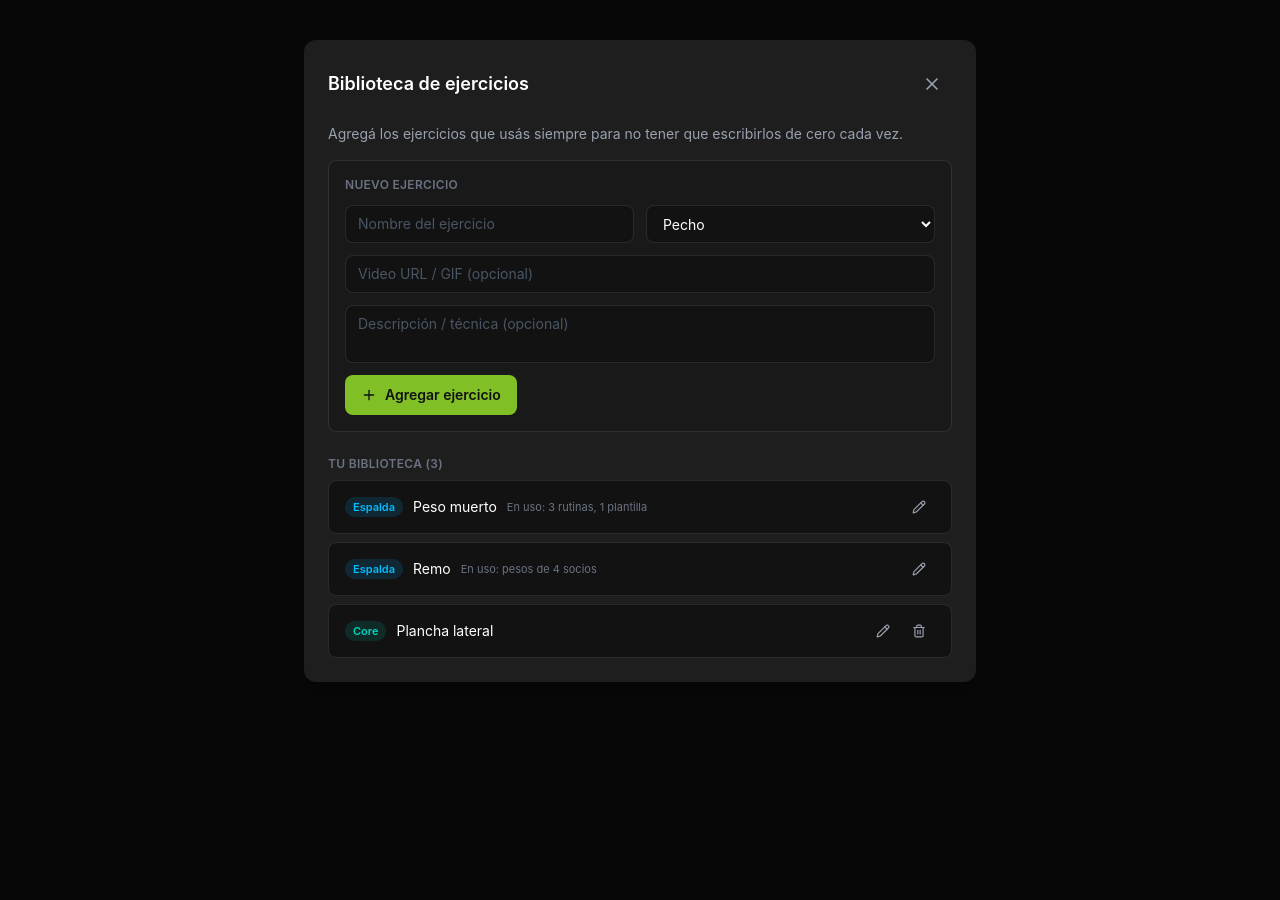
Biblioteca -- borrar un ejercicio sin uso › si al momento de borrar ya está en uso (la lista estaba vieja): no pregunta, no borra y dice por qué
Expected: the text "Peso muerto" is shown, [413, 497, 497, 517]
Click the button named "Eliminar Plancha lateral".
click(919, 631)  # box [903, 615, 935, 647]
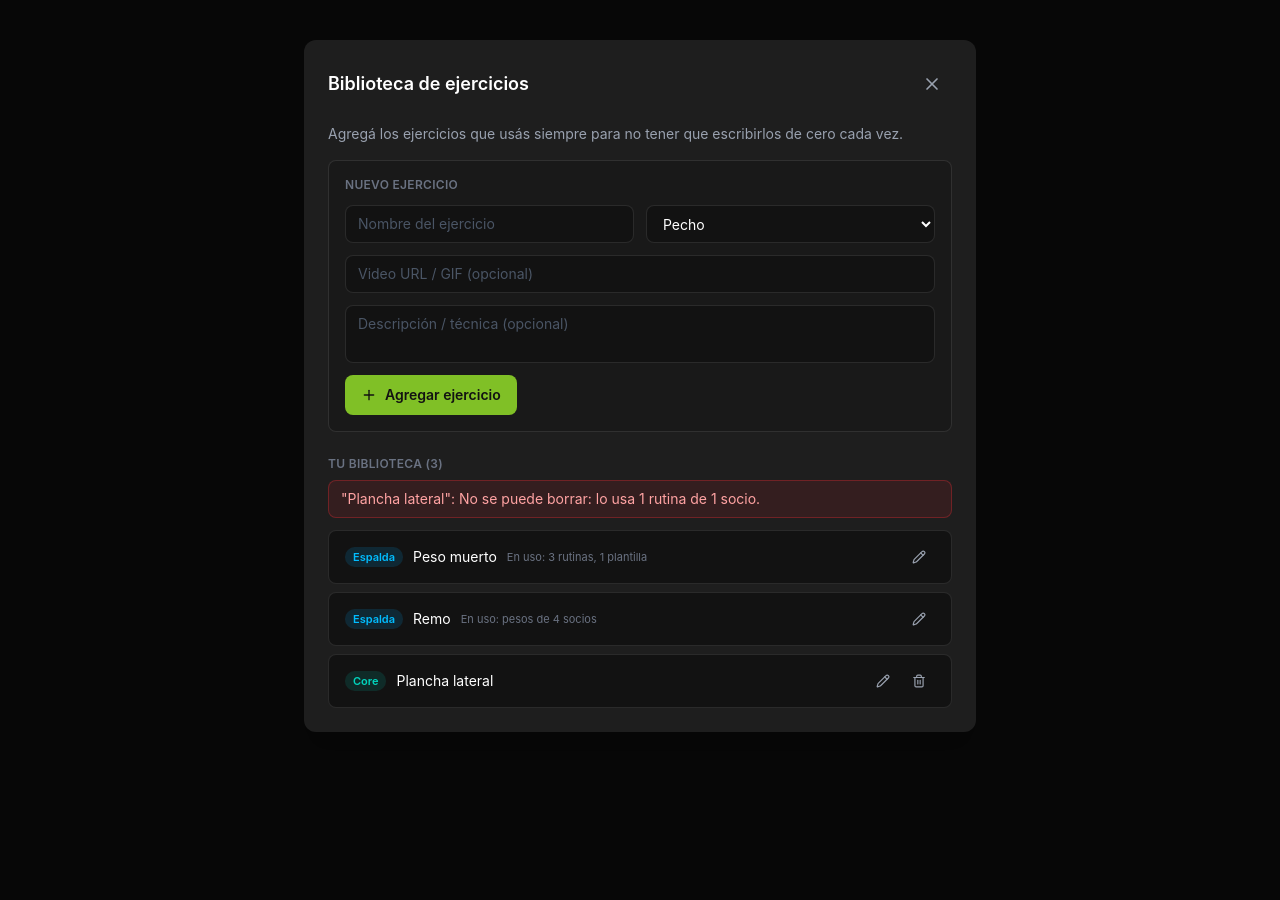
Expected: the message reads "\"Plancha lateral\": No se puede borrar: lo usa 1 rutina de 1 socio.", [341, 490, 760, 507]
